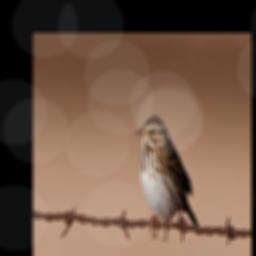Sparrow: (135, 115, 203, 240)
